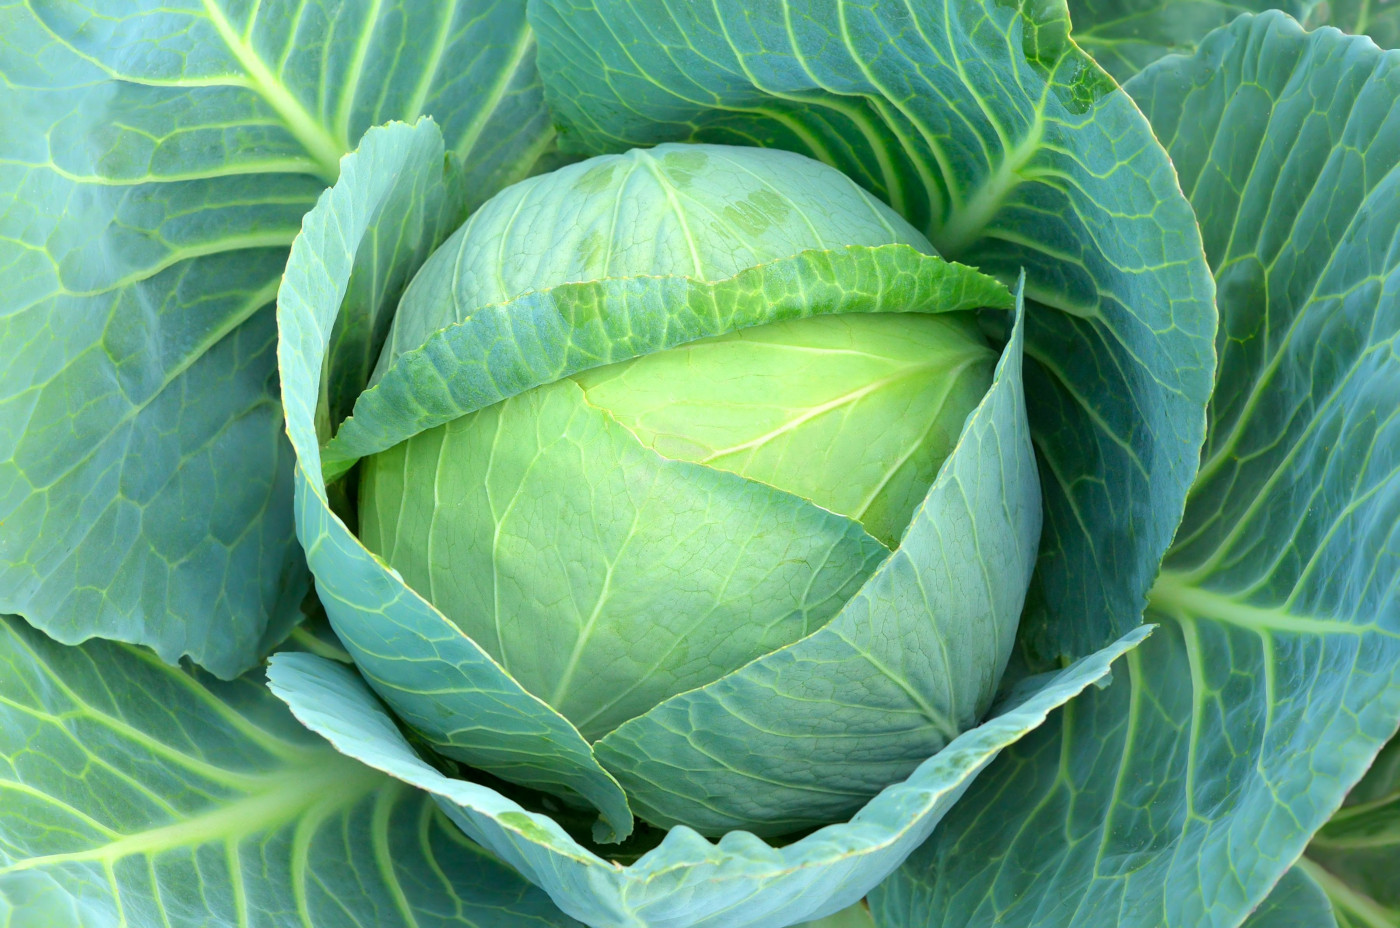cabbage: (222, 65, 1220, 912)
